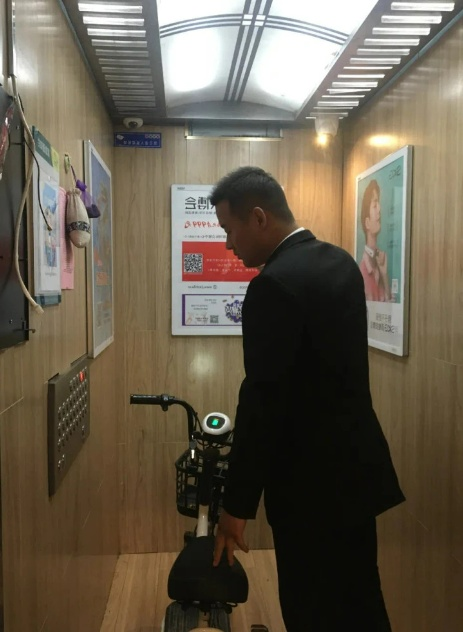ebike: (128, 391, 274, 632)
person: (205, 167, 402, 631)
